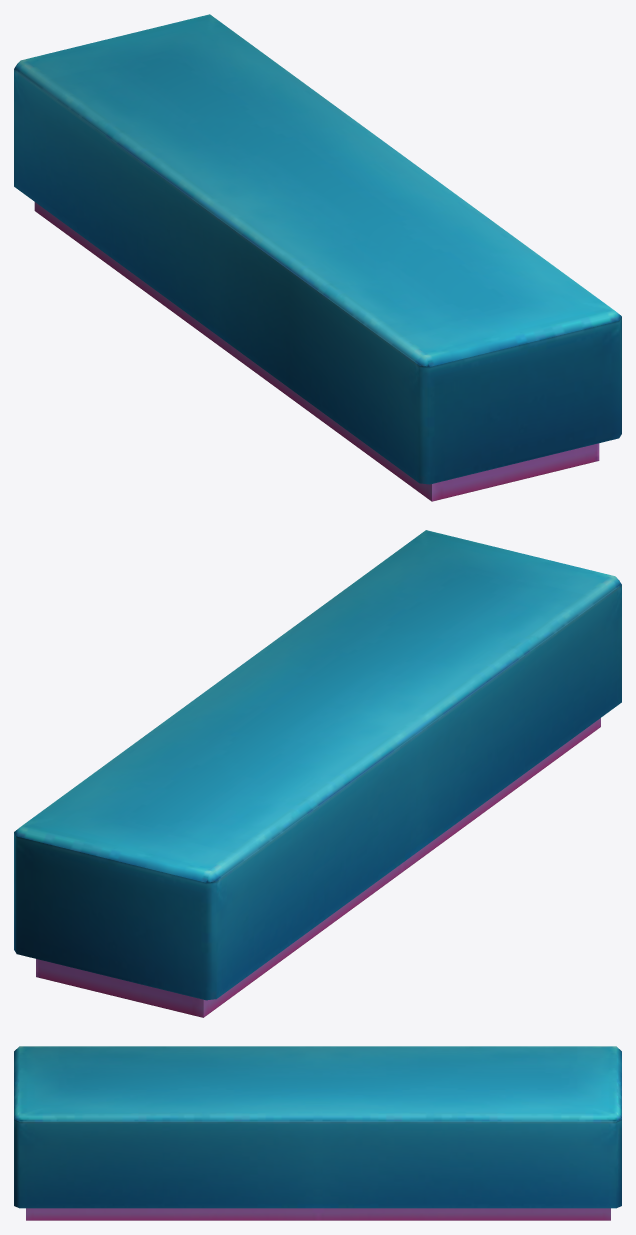
Rendered from furn_dwc2022_sofa_01.gltf.
3 views of the same model, one above another, from view 1: azimuth 30°, elevation 25°; view 2: azimuth 150°, elevation 25°; view 3: azimuth 270°, elevation 25° (orthographic). The views are drawn at different scales.
Visible parts, largest first — view 1: dwc2022_sofa_01; view 2: dwc2022_sofa_01; view 3: dwc2022_sofa_01.
Part boxes in pixels (x1=…): dwc2022_sofa_01: x1=14, y1=14, x2=621, y2=501; dwc2022_sofa_01: x1=14, y1=530, x2=621, y2=1017; dwc2022_sofa_01: x1=14, y1=1046, x2=621, y2=1220.
Bounding box in the file's own units: 0.385 × 0.2727 × 1.36.
Materials: 1 (1 with a texture image).
